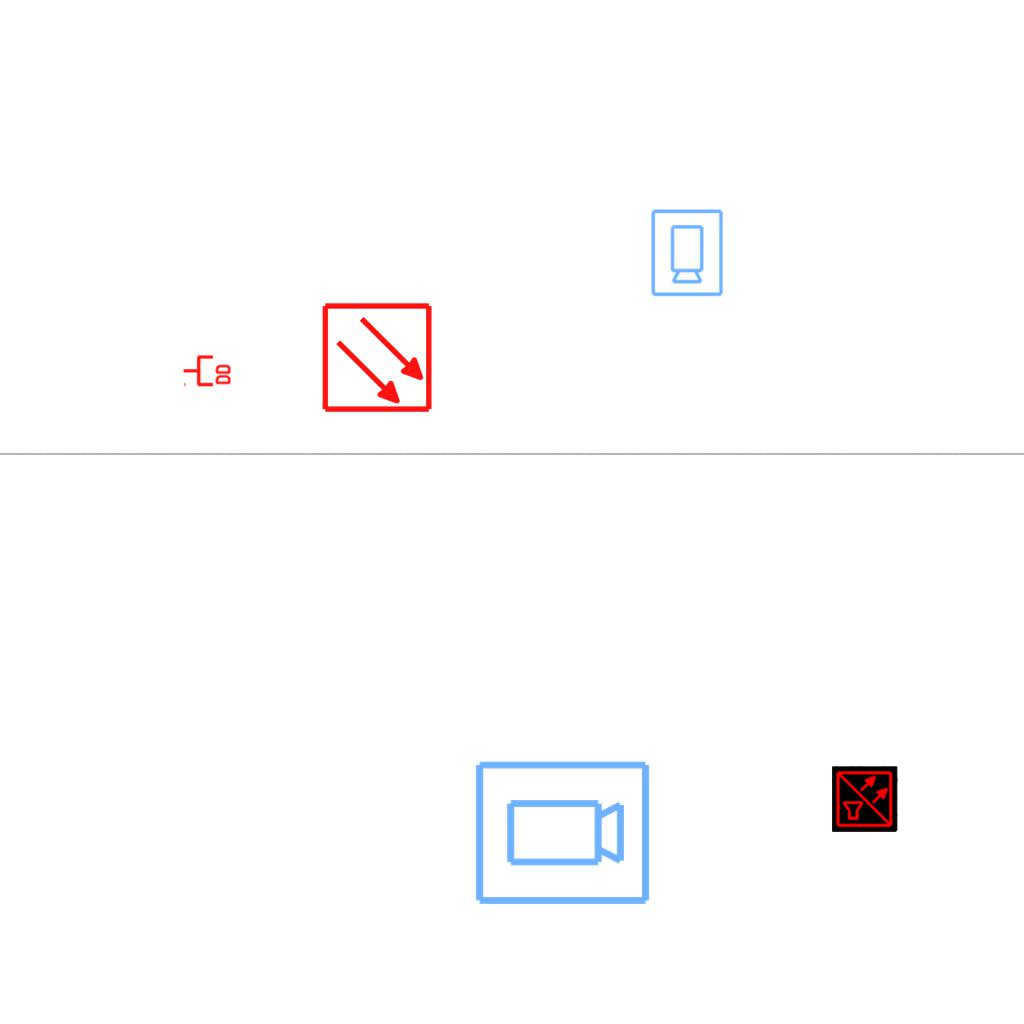Datenanschluss_zweifach: (182, 353, 233, 387)
KFO_Kamera_mit_Festobjektiv: (471, 757, 653, 911), (648, 207, 725, 298)
OKW_Multisensormelder_(Kombination_optischer_Rauch-Kahlenmonoxid_Waerme-Melder): (832, 766, 898, 832)
RMO_Rauchmelder_optischer: (321, 301, 434, 414)
